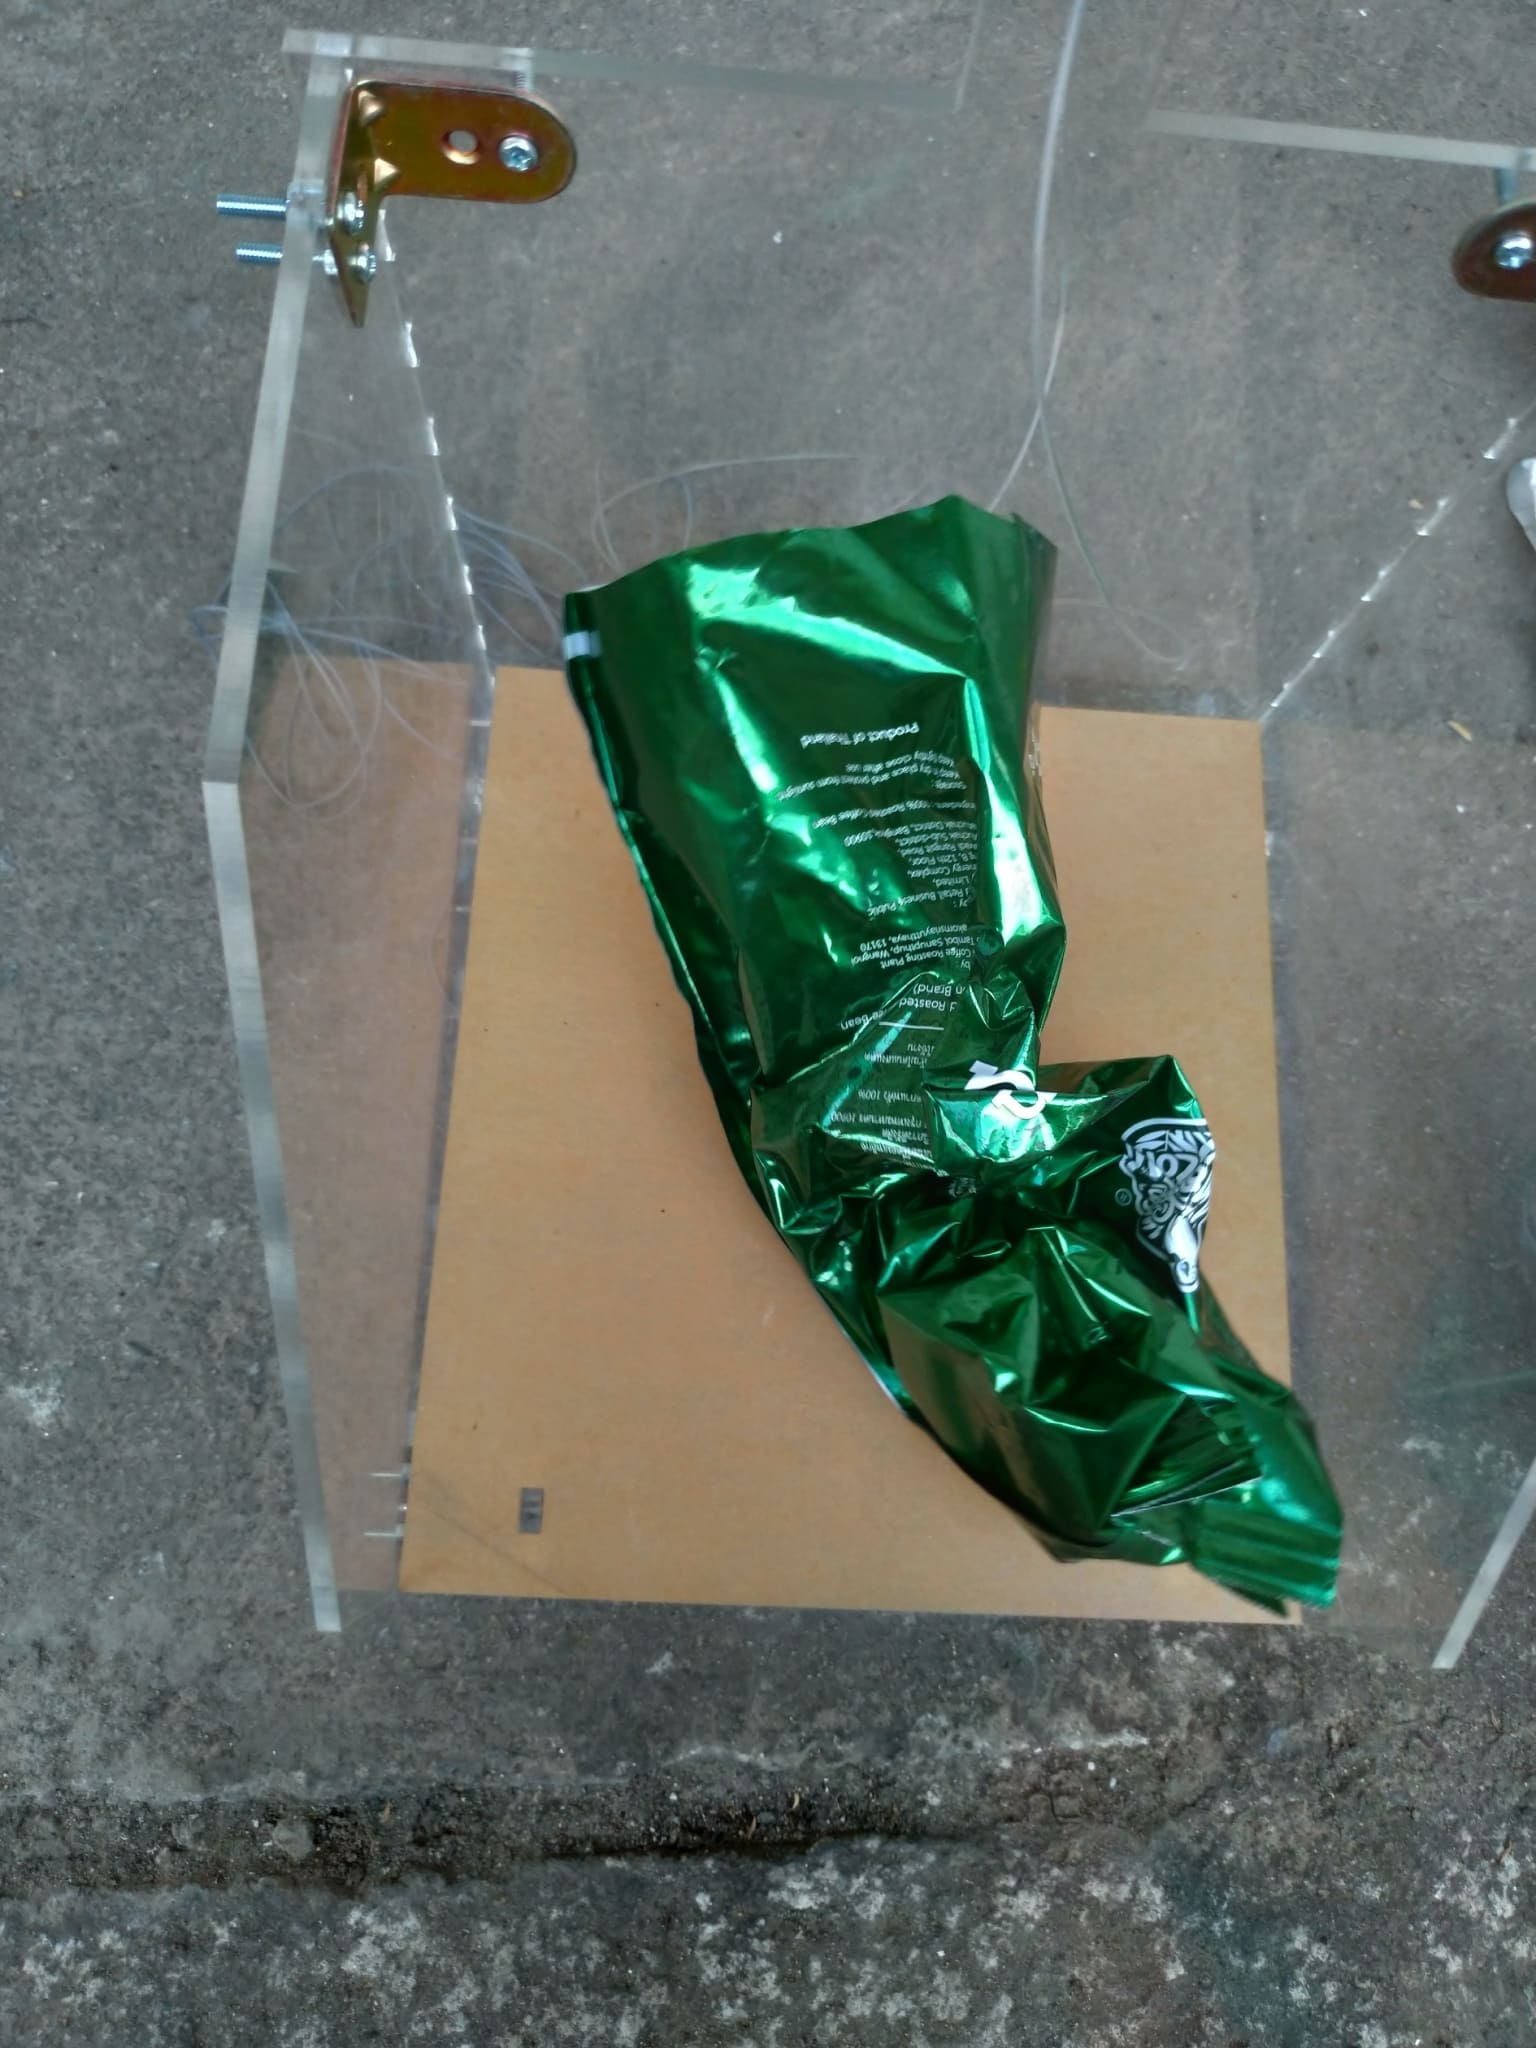Others: (560, 495, 1338, 1622)
